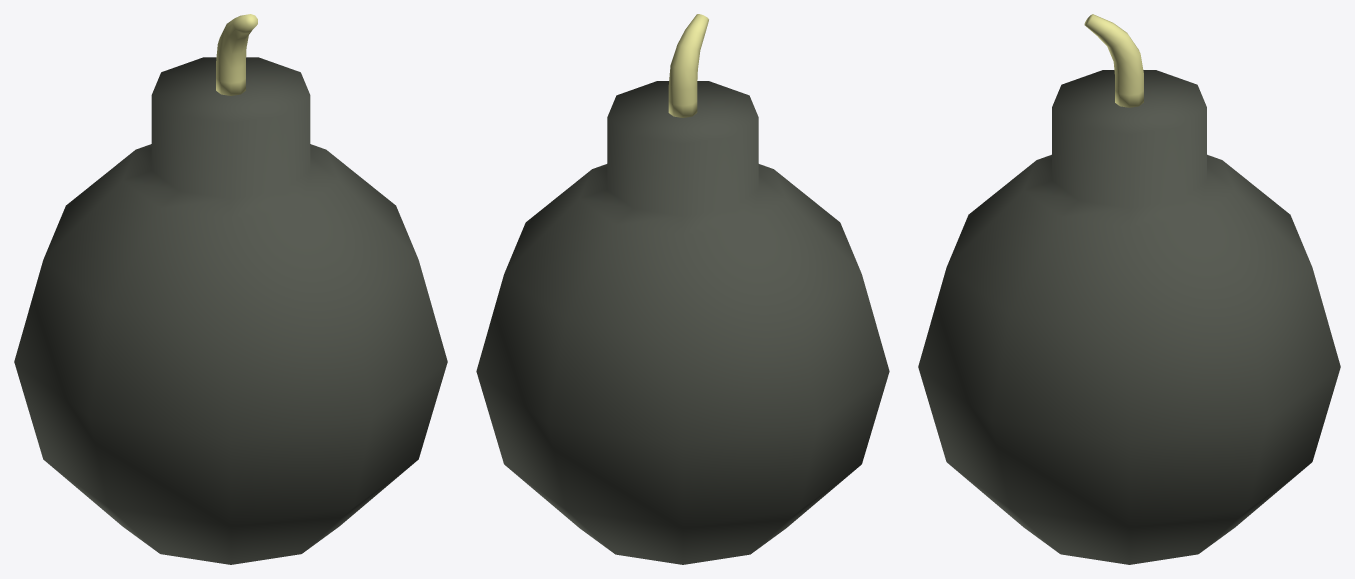
The model's file is boom.fbx.
The picture shows the model from 3 angles, left to right: view 1: azimuth 30°, elevation 25°; view 2: azimuth 150°, elevation 25°; view 3: azimuth 270°, elevation 25°; orthographic projection. The views are drawn at different scales.
Visible parts, largest first — view 1: boom; view 2: boom; view 3: boom.
Boxes of the visible parts, bbox=[...] form: boom: bbox=[14, 14, 447, 564]; boom: bbox=[476, 14, 889, 564]; boom: bbox=[918, 14, 1340, 564].
Bounding box in the file's own units: 0.538 × 0.5298 × 0.7454.
